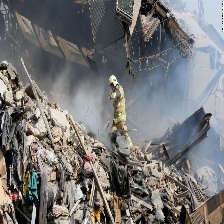smoke: (143, 68, 216, 173), (56, 68, 107, 129)
